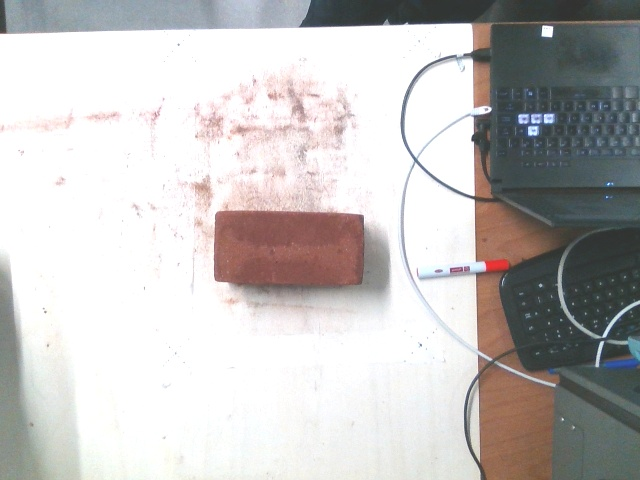brick: (213, 211, 364, 282)
